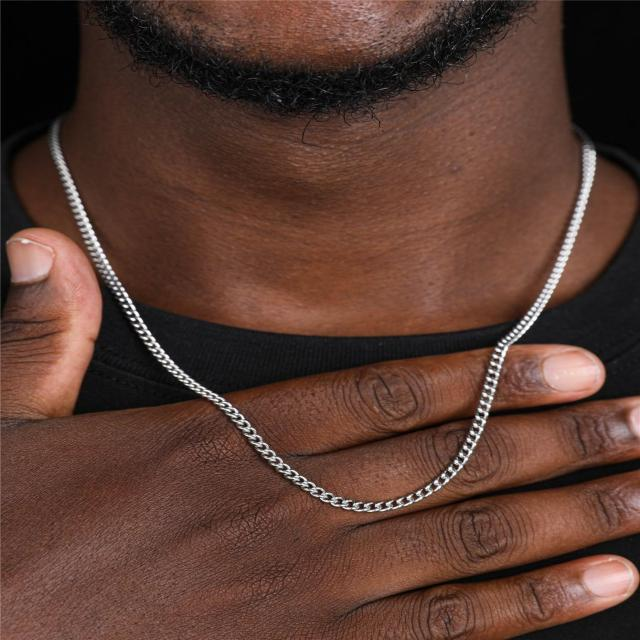Nail: (6, 233, 55, 296), (538, 346, 603, 393), (582, 555, 639, 598)
